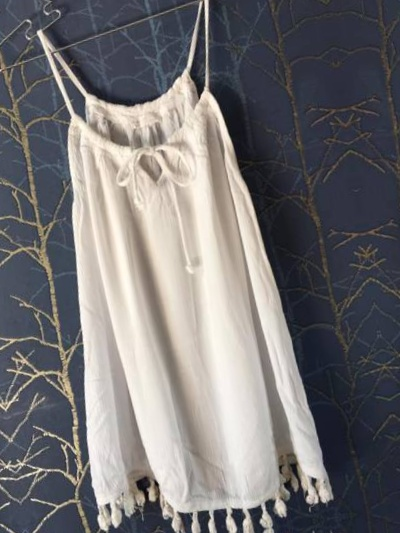Dress: (0, 0, 356, 533), (374, 0, 400, 497), (78, 517, 400, 533)
